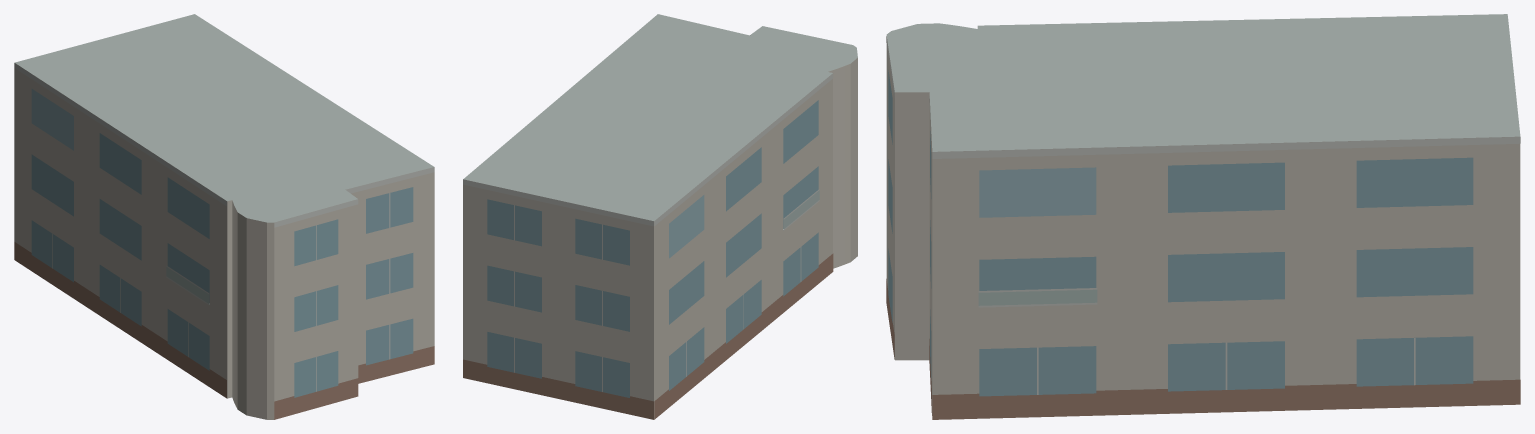
File: survey-upis-32758951.glb
3 renders of one model, left to right at view 1: azimuth 30°, elevation 25°; view 2: azimuth 150°, elevation 25°; view 3: azimuth 270°, elevation 25°, orthographic. The views are drawn at different scales.
Parts seen in each view (by area): view 1: survey-upis-32758951.tmp; view 2: survey-upis-32758951.tmp; view 3: survey-upis-32758951.tmp.
Part boxes in pixels (bbox=[...]): survey-upis-32758951.tmp: bbox=[14, 14, 434, 419]; survey-upis-32758951.tmp: bbox=[463, 14, 857, 419]; survey-upis-32758951.tmp: bbox=[886, 14, 1520, 419].
Bounding box in the file's own units: 10.11 × 9.15 × 19.63.
